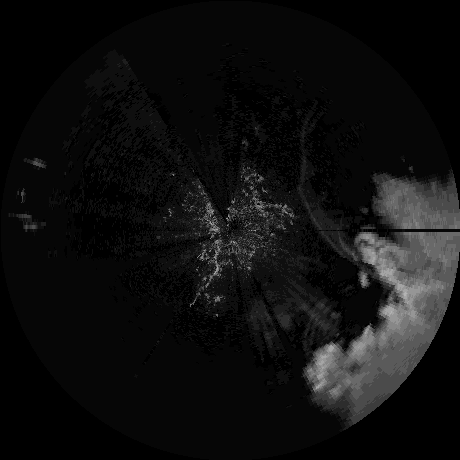frontgust: (297, 159, 356, 262)
